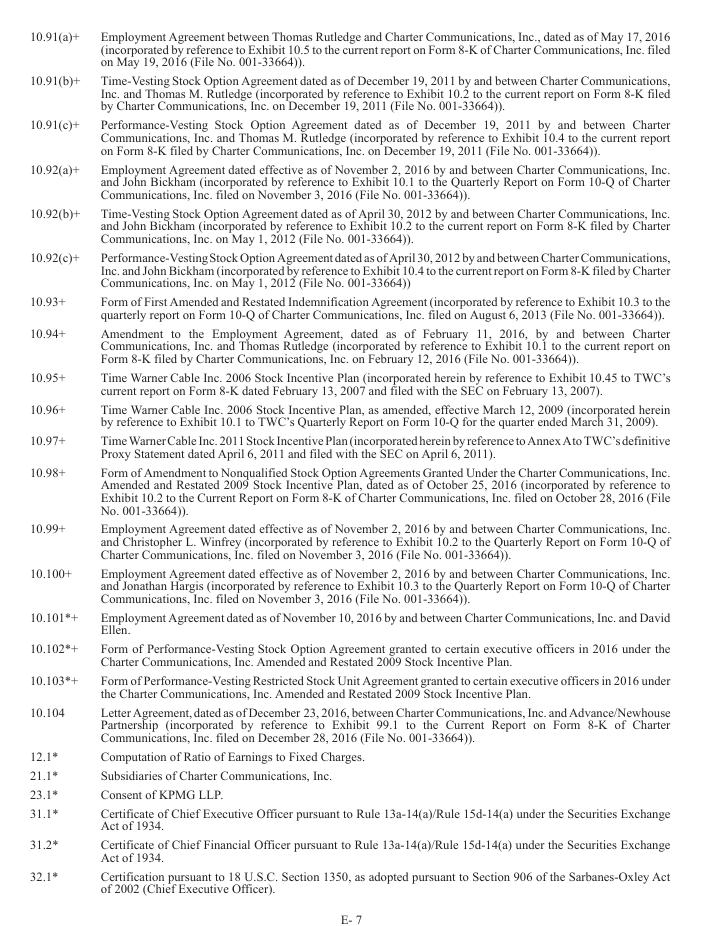table: (29, 28, 669, 895)
table column: (89, 28, 669, 895), (29, 28, 89, 895)
table row: (29, 461, 669, 518), (29, 158, 669, 203), (29, 562, 669, 607), (29, 701, 669, 746), (29, 70, 669, 114), (29, 114, 669, 158), (29, 203, 669, 247), (29, 247, 669, 291), (29, 323, 669, 367), (29, 518, 669, 562), (29, 28, 669, 70), (29, 291, 669, 323), (29, 398, 669, 430), (29, 638, 669, 670), (29, 802, 669, 834), (29, 367, 669, 398), (29, 430, 669, 461), (29, 607, 669, 638), (29, 670, 669, 701), (29, 834, 669, 865), (29, 865, 669, 895), (29, 764, 669, 783), (29, 783, 669, 802), (29, 746, 669, 764)
